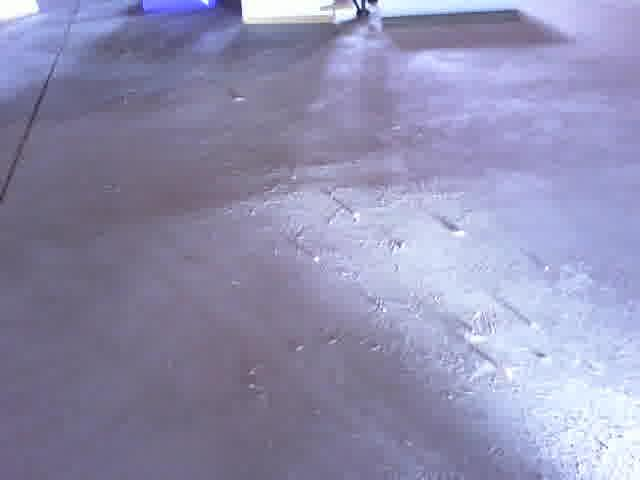coral: (376, 1, 521, 21)
